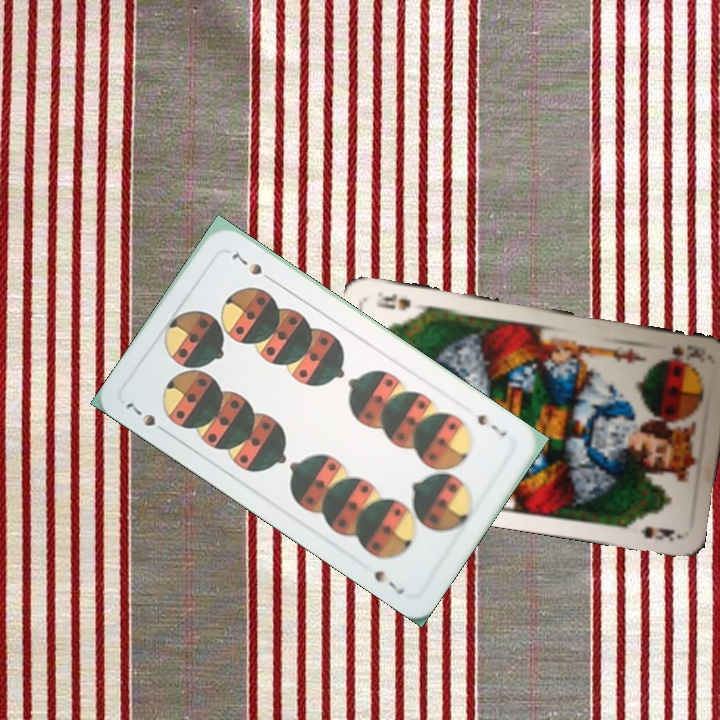S7: (121, 398, 171, 437), (473, 410, 510, 440)
SK: (664, 340, 704, 362)
